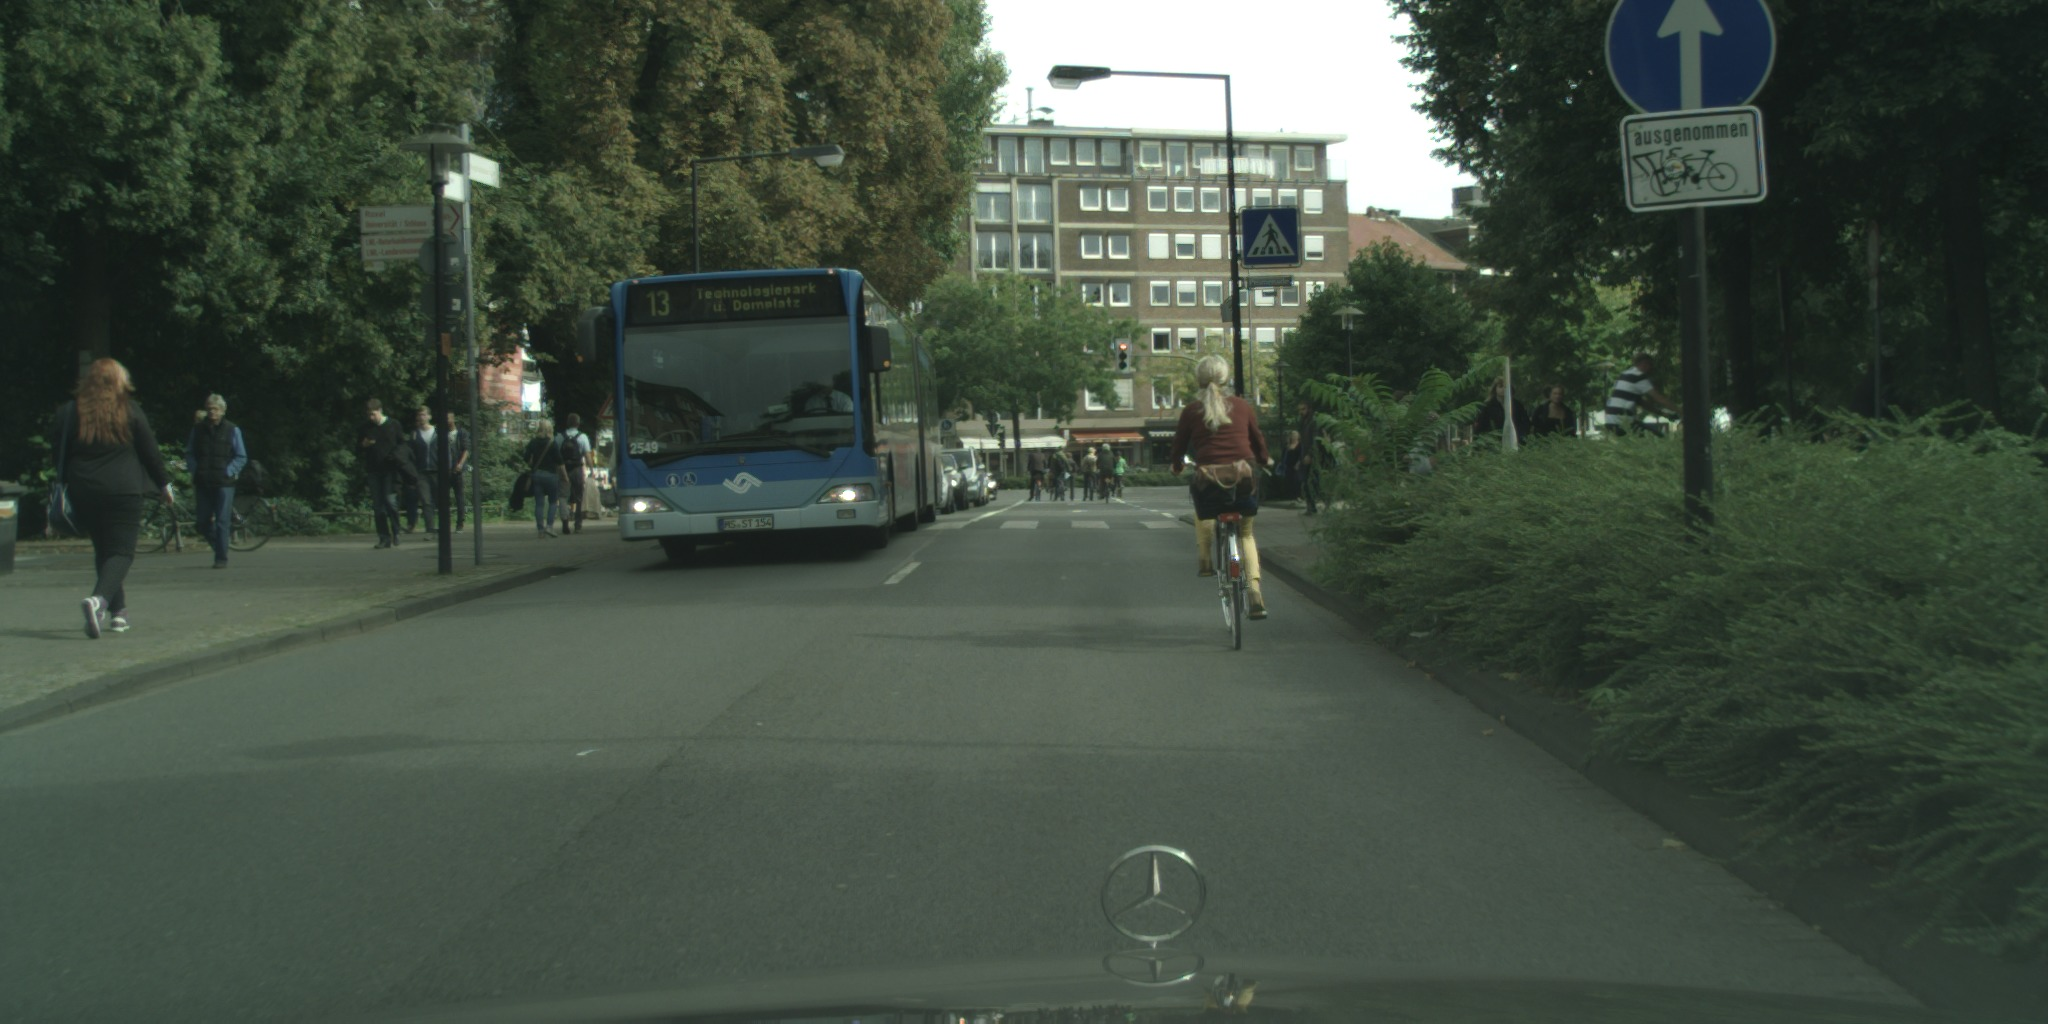bicycle: (107, 455, 280, 555), (1187, 462, 1262, 652), (1033, 473, 1042, 502), (1051, 474, 1060, 503), (1088, 470, 1094, 502), (1104, 474, 1110, 505)
bus: (575, 268, 940, 561)
car: (938, 447, 988, 507), (934, 451, 970, 510), (927, 451, 956, 514), (982, 465, 998, 503)
person: (45, 358, 174, 640), (1327, 391, 1441, 495), (357, 396, 431, 550), (184, 393, 246, 570), (1603, 353, 1695, 446), (507, 416, 571, 541), (553, 411, 597, 534), (1473, 375, 1532, 450), (414, 404, 444, 544), (445, 408, 474, 534), (1532, 383, 1576, 447), (400, 430, 426, 536), (1298, 402, 1322, 519), (191, 410, 212, 446), (1282, 426, 1300, 469), (1113, 449, 1126, 499), (1064, 450, 1076, 483)
rider: (1169, 353, 1276, 621), (1046, 444, 1070, 503), (1026, 445, 1047, 503), (1094, 442, 1114, 501), (1081, 445, 1098, 503)
